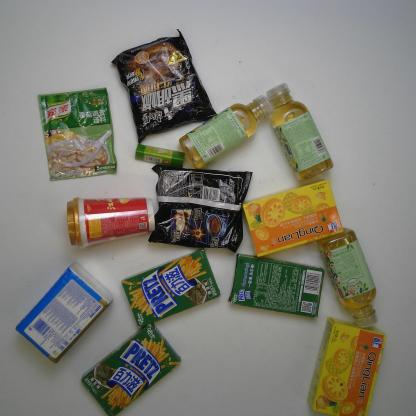Dessert: (80, 321, 182, 416), (240, 178, 344, 258), (120, 248, 221, 328), (306, 316, 386, 416), (227, 252, 325, 318)
Drink: (178, 95, 274, 170), (266, 82, 335, 183), (316, 226, 379, 329)
Instant Drink: (66, 196, 156, 249)
Instant Noodles: (110, 28, 218, 145), (146, 163, 253, 252)
Seasoner: (37, 85, 117, 182)
Stationery: (135, 143, 185, 169)
Tissue: (14, 262, 114, 364)
